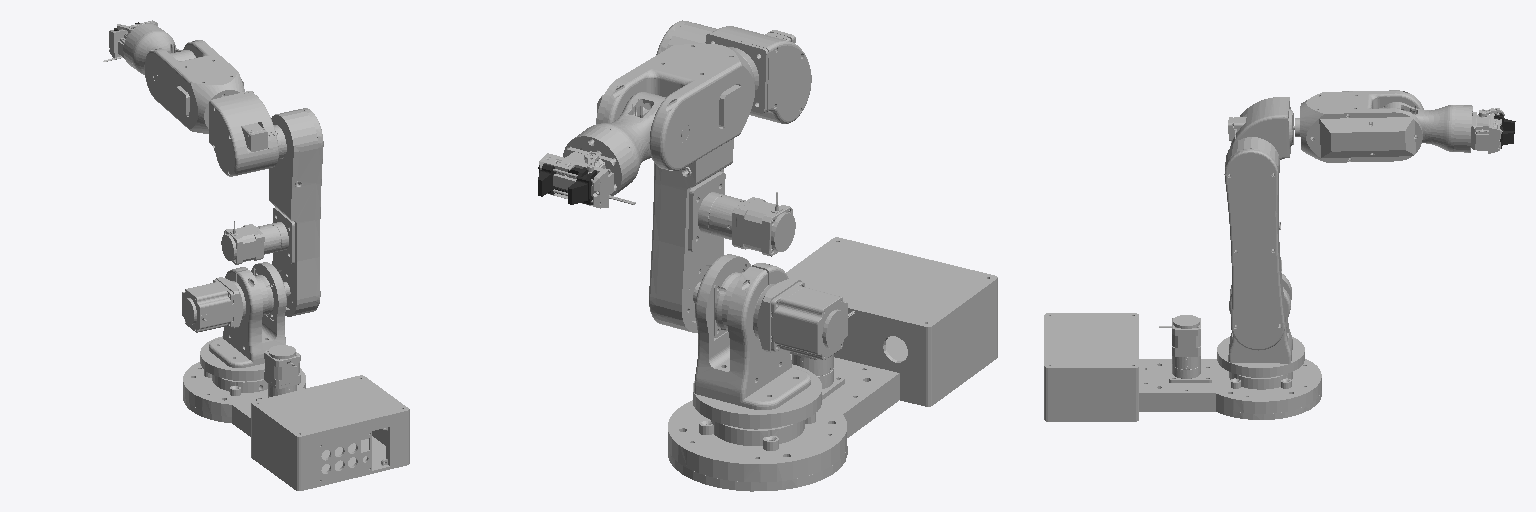
The robot description file, URDF, robot "grap":
<?xml version="1.0" ?>
<!-- =================================================================================== -->
<!-- |    This document was autogenerated by xacro from ./src/grap_description/urdf/grap.urdf.xacro | -->
<!-- |    EDITING THIS FILE BY HAND IS NOT RECOMMENDED                                 | -->
<!-- =================================================================================== -->
<robot name="grap">
  <gazebo>
    <plugin filename="libgazebo_ros2_control.so" name="gazebo_ros2_control">
      <robot_param>robot_description</robot_param>
      <robot_param_node>robot_state_publisher</robot_param_node>
      <parameters>[local-path]/grap_ws/install/grap_controller/share/grap_controller/config/grap_controllers.yaml</parameters>
    </plugin>
  </gazebo>
  <ros2_control name="RobotSystem" type="system">
    <hardware>
      <plugin>gazebo_ros2_control/GazeboSystem</plugin>
    </hardware>
    <joint name="gripper_to_jaw2">
      <param name="mimic">gripper_to_jaw1</param>
      <param name="multiplier">-1</param>
      <command_interface name="position">
        <param name="min">0.0</param>
        <param name="max">0.008</param>
      </command_interface>
    </joint>
    <!-- <hardware>
            <plugin>gazebo_ros2_control/GazeboSystem</plugin>
        </hardware> -->
    <joint name="joint_1">
      <command_interface name="position">
        <param name="min">-3.14159265359</param>
        <param name="max">3.14159265359</param>
      </command_interface>
      <state_interface name="position"/>
    </joint>
    <joint name="joint_2">
      <command_interface name="position">
        <param name="min">-3.14159265359</param>
        <param name="max">3.14159265359</param>
      </command_interface>
      <state_interface name="position"/>
    </joint>
    <joint name="joint_3">
      <command_interface name="position">
        <param name="min">-3.14159265359</param>
        <param name="max">3.14159265359</param>
      </command_interface>
      <state_interface name="position"/>
    </joint>
    <joint name="joint_4">
      <command_interface name="position">
        <param name="min">-3.14159265359</param>
        <param name="max">3.14159265359</param>
      </command_interface>
      <state_interface name="position"/>
    </joint>
    <joint name="joint_5">
      <command_interface name="position">
        <param name="min">-3.14159265359</param>
        <param name="max">3.14159265359</param>
      </command_interface>
      <state_interface name="position"/>
    </joint>
    <joint name="joint_6">
      <command_interface name="position">
        <param name="min">-3.14159265359</param>
        <param name="max">3.14159265359</param>
      </command_interface>
      <state_interface name="position"/>
    </joint>
    <joint name="gripper_to_jaw1">
      <command_interface name="position">
        <param name="min">0.0</param>
        <param name="max">0.008</param>
      </command_interface>
      <state_interface name="position"/>
    </joint>
    <!-- <joint name="gripper_to_jaw2">
            <param name="mimic">gripper_to_jaw1</param>
            <param name="multiplier">-1</param>
            <command_interface name="position">
            <param name="min">0.0</param>
            <param name="max">0.016</param>
            </command_interface>
        </joint> -->
  </ros2_control>
  <joint name="camera_joint" type="revolute">
    <origin rpy="0 0 0" xyz="0 0 0"/>
    <parent link="gripper"/>
    <child link="camera_link"/>
    <axis xyz="-1 0 0"/>
    <limit effort="30.0" lower="-3.14159265359" upper="3.14159265359" velocity="10.0"/>
  </joint>
  <link name="camera_link"/>
  <!-- camera depth joints and links -->
  <joint name="camera_depth_joint" type="revolute">
    <origin rpy="0 0 0" xyz="0 0 0"/>
    <parent link="camera_link"/>
    <child link="camera_depth_frame"/>
    <axis xyz="-1 0 0"/>
    <limit effort="30.0" lower="-3.14159265359" upper="3.14159265359" velocity="10.0"/>
  </joint>
  <link name="camera_depth_frame"/>
  <joint name="camera_depth_optical_joint" type="revolute">
    <origin rpy="-1.570795 0 -1.570795" xyz="0 0 0"/>
    <parent link="camera_depth_frame"/>
    <child link="camera_depth_optical_frame"/>
    <axis xyz="-1 0 0"/>
    <limit effort="30.0" lower="-3.14159265359" upper="3.14159265359" velocity="10.0"/>
  </joint>
  <link name="camera_depth_optical_frame"/>
  <!-- camera color joints and links -->
  <joint name="camera_color_joint" type="fixed">
    <origin rpy="0 0 0" xyz="0 0.015 0"/>
    <parent link="camera_link"/>
    <child link="camera_color_frame"/>
    <axis xyz="-1 0 0"/>
    <limit effort="30.0" lower="-3.14159265359" upper="3.14159265359" velocity="10.0"/>
  </joint>
  <link name="camera_color_frame"/>
  <joint name="camera_color_optical_joint" type="revolute">
    <origin rpy="-1.570795 0 -1.570795" xyz="0 0 0"/>
    <parent link="camera_color_frame"/>
    <child link="camera_color_optical_frame"/>
    <axis xyz="-1 0 0"/>
    <limit effort="30.0" lower="-3.14159265359" upper="3.14159265359" velocity="10.0"/>
  </joint>
  <link name="camera_color_optical_frame"/>
  <link name="world"/>
  <link name="base_link">
    <inertial>
      <origin rpy="0 0 0" xyz="-0.00421198548058446 -0.132961324333918 0.029522138429454"/>
      <mass value="2.06490187169485"/>
      <inertia ixx="0.00763309208876671" ixy="3.15518256302426E-11" ixz="4.56162161811514E-07" iyy="0.00545339003883257" iyz="1.51827544511072E-05" izz="0.0120480791979355"/>
    </inertial>
    <visual>
      <origin rpy="0 0 0" xyz="0 0 0"/>
      <geometry>
        <mesh filename="package://grap_description/meshes/base_link.STL"/>
      </geometry>
      <material name="">
        <color rgba="0.752941176470588 0.752941176470588 0.752941176470588 1"/>
      </material>
    </visual>
    <collision>
      <origin rpy="0 0 0" xyz="0 0 0"/>
      <geometry>
        <mesh filename="package://grap_description/meshes/base_link.STL"/>
      </geometry>
    </collision>
  </link>
  <joint name="virtual_joint" type="fixed">
    <parent link="world"/>
    <child link="base_link"/>
    <origin rpy="0 0 0" xyz="0 0 0"/>
  </joint>
  <link name="link_1">
    <inertial>
      <origin rpy="0 0 0" xyz="0.000808969800299604 -0.000138570798438029 0.0278710310309241"/>
      <mass value="1.345459012011"/>
      <inertia ixx="0.00194001972580055" ixy="-7.09464672629289E-08" ixz="-0.000115014321831031" iyy="0.00149431595473908" iyz="-4.44939328188659E-07" izz="0.00120049182104889"/>
    </inertial>
    <visual>
      <origin rpy="0 0 0" xyz="0 0 0"/>
      <geometry>
        <mesh filename="package://grap_description/meshes/link_1.STL"/>
      </geometry>
      <material name="">
        <color rgba="0.752941176470588 0.752941176470588 0.752941176470588 1"/>
      </material>
    </visual>
    <collision>
      <origin rpy="0 0 0" xyz="0 0 0"/>
      <geometry>
        <mesh filename="package://grap_description/meshes/link_1.STL"/>
      </geometry>
    </collision>
  </link>
  <joint name="joint_1" type="revolute">
    <origin rpy="0 0 -0.04022" xyz="0 0 0.090781"/>
    <parent link="base_link"/>
    <child link="link_1"/>
    <axis xyz="0 0 -1"/>
    <limit effort="30.0" lower="-3.14159" upper="3.14159" velocity="10.0"/>
  </joint>
  <link name="link_2">
    <inertial>
      <origin rpy="0 0 0" xyz="0.0725656011027376 -0.00493585449999363 0.128767953566197"/>
      <mass value="1.08660833495192"/>
      <inertia ixx="0.00877681843180501" ixy="-5.66224815842472E-06" ixz="0.000146344087580709" iyy="0.00836958858568757" iyz="0.00029566340732952" izz="0.000729007965972375"/>
    </inertial>
    <visual>
      <origin rpy="0 0 0" xyz="0 0 0"/>
      <geometry>
        <mesh filename="package://grap_description/meshes/link_2.STL"/>
      </geometry>
      <material name="">
        <color rgba="0.752941176470588 0.752941176470588 0.752941176470588 1"/>
      </material>
    </visual>
    <collision>
      <origin rpy="0 0 0" xyz="0 0 0"/>
      <geometry>
        <mesh filename="package://grap_description/meshes/link_2.STL"/>
      </geometry>
    </collision>
  </link>
  <joint name="joint_2" type="revolute">
    <origin rpy="0 0 0" xyz="0 -0.0005 0.068719"/>
    <parent link="link_1"/>
    <child link="link_2"/>
    <axis xyz="-1 0 0"/>
    <limit effort="30.0" lower="-3.14159" upper="3.14159" velocity="10.0"/>
  </joint>
  <link name="link_3">
    <inertial>
      <origin rpy="0 0 0" xyz="0.00556942315189014 0.0159629818583244 0.0167696823119708"/>
      <mass value="0.398679361770722"/>
      <inertia ixx="0.000416745288177109" ixy="-3.47434917961218E-06" ixz="3.23990501593985E-06" iyy="0.000375158213106478" iyz="-4.50186074962209E-05" izz="0.000325767200255177"/>
    </inertial>
    <visual>
      <origin rpy="0 0 0" xyz="0 0 0"/>
      <geometry>
        <mesh filename="package://grap_description/meshes/link_3.STL"/>
      </geometry>
      <material name="">
        <color rgba="0.752941176470588 0.752941176470588 0.752941176470588 1"/>
      </material>
    </visual>
    <collision>
      <origin rpy="0 0 0" xyz="0 0 0"/>
      <geometry>
        <mesh filename="package://grap_description/meshes/link_3.STL"/>
      </geometry>
    </collision>
  </link>
  <joint name="joint_3" type="revolute">
    <origin rpy="0.041978 0 0" xyz="0 -0.0095271 0.24582"/>
    <parent link="link_2"/>
    <child link="link_3"/>
    <axis xyz="1 0 0"/>
    <limit effort="30.0" lower="-3.14159" upper="3.14159" velocity="10.0"/>
  </joint>
  <link name="link_4">
    <inertial>
      <origin rpy="0 0 0" xyz="-0.000450394342593537 0.0976802655619906 2.03746135479799E-05"/>
      <mass value="1.8261804701663"/>
      <inertia ixx="0.00210255182937435" ixy="2.29902955299491E-05" ixz="-7.18041313732403E-07" iyy="0.00203452811208358" iyz="-9.16847068684897E-08" izz="0.00204365103205903"/>
    </inertial>
    <visual>
      <origin rpy="0 0 0" xyz="0 0 0"/>
      <geometry>
        <mesh filename="package://grap_description/meshes/link_4.STL"/>
      </geometry>
      <material name="">
        <color rgba="0.752941176470588 0.752941176470588 0.752941176470588 1"/>
      </material>
    </visual>
    <collision>
      <origin rpy="0 0 0" xyz="0 0 0"/>
      <geometry>
        <mesh filename="package://grap_description/meshes/link_4.STL"/>
      </geometry>
    </collision>
  </link>
  <joint name="joint_4" type="revolute">
    <origin rpy="0 0.00292198840003054 0" xyz="-0.000427000000000295 0.054679674711157 0.02799999999999"/>
    <parent link="link_3"/>
    <child link="link_4"/>
    <axis xyz="0 -1 0"/>
    <limit effort="30.0" lower="-3.14159" upper="3.14159" velocity="10.0"/>
  </joint>
  <link name="link_5">
    <inertial>
      <origin rpy="0 0 0" xyz="-0.000940353193648331 0.0653029129196113 -0.00549326154095703"/>
      <mass value="0.374215035422608"/>
      <inertia ixx="0.000270325796137459" ixy="-6.15170805624937E-08" ixz="5.79348371080446E-07" iyy="0.000236192995819435" iyz="1.1525902201961E-06" izz="0.000265738649483187"/>
    </inertial>
    <visual>
      <origin rpy="0 0 0" xyz="0 0 0"/>
      <geometry>
        <mesh filename="package://grap_description/meshes/link_5.STL"/>
      </geometry>
      <material name="">
        <color rgba="0.752941176470588 0.752941176470588 0.752941176470588 1"/>
      </material>
    </visual>
    <collision>
      <origin rpy="0 0 0" xyz="0 0 0"/>
      <geometry>
        <mesh filename="package://grap_description/meshes/link_5.STL"/>
      </geometry>
    </collision>
  </link>
  <joint name="joint_5" type="revolute">
    <origin rpy="0 0 0" xyz="0 0.157320325288843 0"/>
    <parent link="link_4"/>
    <child link="link_5"/>
    <axis xyz="1 0 0"/>
    <limit effort="30.0" lower="-3.14159" upper="3.14159" velocity="10.0"/>
  </joint>
  <link name="gripper">
    <inertial>
      <origin rpy="0 0 0" xyz="-2.68262754406084E-05 0.034601415676076 -0.00192591497150746"/>
      <mass value="0.086559841068276"/>
      <inertia ixx="1.28836553131188E-05" ixy="-2.16585157564151E-07" ixz="1.9387711366824E-07" iyy="3.83162023632297E-05" iyz="4.43523340333197E-07" izz="3.10662084307227E-05"/>
    </inertial>
    <visual>
      <origin rpy="0 0 0" xyz="0 0 0"/>
      <geometry>
        <mesh filename="package://grap_description/meshes/gripper.STL"/>
      </geometry>
      <material name="">
        <color rgba="0.752941176470588 0.752941176470588 0.752941176470588 1"/>
      </material>
    </visual>
    <collision>
      <origin rpy="0 0 0" xyz="0 0 0"/>
      <geometry>
        <mesh filename="package://grap_description/meshes/gripper.STL"/>
      </geometry>
    </collision>
  </link>
  <joint name="joint_6" type="revolute">
    <origin rpy="-0.083011 -0.014025 0.0011669" xyz="-0.001 0.096952 -0.0080658"/>
    <parent link="link_5"/>
    <child link="gripper"/>
    <axis xyz="0 1 0"/>
    <limit effort="30.0" lower="-3.14159" upper="3.14159" velocity="10.0"/>
  </joint>
  <link name="jaw_1">
    <inertial>
      <origin rpy="0 0 0" xyz="-0.0163227415466946 0.0109639611316651 -0.0103863936568477"/>
      <mass value="0.00654748908881563"/>
      <inertia ixx="8.84676971240293E-07" ixy="1.95149751371114E-08" ixz="-7.19300070994304E-08" iyy="7.00611451021727E-07" iyz="1.59781110542551E-07" izz="6.07697845789848E-07"/>
    </inertial>
    <visual>
      <origin rpy="0 0 0" xyz="0 0 0"/>
      <geometry>
        <mesh filename="package://grap_description/meshes/jaw_1.STL"/>
      </geometry>
      <material name="">
        <color rgba="0.250980392156863 0.250980392156863 0.250980392156863 1"/>
      </material>
    </visual>
    <collision>
      <origin rpy="0 0 0" xyz="0 0 0"/>
      <geometry>
        <mesh filename="package://grap_description/meshes/jaw_1.STL"/>
      </geometry>
    </collision>
  </link>
  <joint name="gripper_to_jaw1" type="prismatic">
    <origin rpy="0 0 0" xyz="0 0.0492703212936029 0.0127749999999998"/>
    <parent link="gripper"/>
    <child link="jaw_1"/>
    <axis xyz="1 0 0"/>
    <limit effort="30.0" lower="0" upper="0.008" velocity="10.0"/>
  </joint>
  <link name="jaw_2">
    <inertial>
      <origin rpy="0 0 0" xyz="0.0212544075235043 0.0110527863198366 0.0105172602203642"/>
      <mass value="0.00651398599816586"/>
      <inertia ixx="8.60320637498025E-07" ixy="-2.08874044579361E-08" ixz="-7.39519895968084E-08" iyy="6.78016333592718E-07" iyz="-1.4826583785601E-07" izz="5.94973793624687E-07"/>
    </inertial>
    <visual>
      <origin rpy="0 0 0" xyz="0 0 0"/>
      <geometry>
        <mesh filename="package://grap_description/meshes/jaw_2.STL"/>
      </geometry>
      <material name="">
        <color rgba="0.250980392156863 0.250980392156863 0.250980392156863 1"/>
      </material>
    </visual>
    <collision>
      <origin rpy="0 0 0" xyz="0 0 0"/>
      <geometry>
        <mesh filename="package://grap_description/meshes/jaw_2.STL"/>
      </geometry>
    </collision>
  </link>
  <joint name="gripper_to_jaw2" type="prismatic">
    <origin rpy="0 0 0" xyz="0.0027062 0.04927 -0.012375"/>
    <parent link="gripper"/>
    <child link="jaw_2"/>
    <axis xyz="1 0 0"/>
    <limit effort="30.0" lower="-0.008" upper="0" velocity="10.0"/>
    <mimic joint="gripper_to_jaw1" multiplier="-1" offset="0"/>
  </joint>
  <transmission name="transmission_1">
    <plugin>transmission_interface/SimpleTransmission</plugin>
    <actuator name="motor_1" role="actuator1"/>
    <joint name="joint_1" role="joint1">
      <mechanical_reduction>1.0</mechanical_reduction>
      <!-- <hardwareInterface>hardware_interface/PositionJointInterface</hardwareInterface> -->
    </joint>
  </transmission>
  <transmission name="transmission_2">
    <plugin>transmission_interface/SimpleTransmission</plugin>
    <actuator name="motor_2" role="actuator1"/>
    <joint name="joint_2" role="joint1">
      <mechanical_reduction>1.0</mechanical_reduction>
      <!-- <hardwareInterface>hardware_interface/PositionJointInterface</hardwareInterface> -->
    </joint>
  </transmission>
  <transmission name="transmission_3">
    <plugin>transmission_interface/SimpleTransmission</plugin>
    <actuator name="motor_3" role="actuator1"/>
    <joint name="joint_3" role="joint1">
      <mechanical_reduction>1.0</mechanical_reduction>
      <!-- <hardwareInterface>hardware_interface/PositionJointInterface</hardwareInterface> -->
    </joint>
  </transmission>
  <transmission name="transmission_4">
    <plugin>transmission_interface/SimpleTransmission</plugin>
    <actuator name="motor_4" role="actuator1"/>
    <joint name="joint_4" role="joint1">
      <mechanical_reduction>1.0</mechanical_reduction>
      <!-- <hardwareInterface>hardware_interface/PositionJointInterface</hardwareInterface> -->
    </joint>
  </transmission>
  <transmission name="transmission_5">
    <plugin>transmission_interface/SimpleTransmission</plugin>
    <actuator name="motor_5" role="actuator1"/>
    <joint name="joint_5" role="joint1">
      <mechanical_reduction>1.0</mechanical_reduction>
      <!-- <hardwareInterface>hardware_interface/PositionJointInterface</hardwareInterface> -->
    </joint>
  </transmission>
  <transmission name="transmission_6">
    <plugin>transmission_interface/SimpleTransmission</plugin>
    <actuator name="motor_6" role="actuator1"/>
    <joint name="joint_6" role="joint1">
      <mechanical_reduction>1.0</mechanical_reduction>
      <!-- <hardwareInterface>hardware_interface/PositionJointInterface</hardwareInterface> -->
    </joint>
  </transmission>
  <transmission name="transmission_jaw">
    <plugin>transmission_interface/SimpleTransmission</plugin>
    <actuator name="motor_jaw" role="actuator1"/>
    <joint name="gripper_to_jaw1" role="joint1">
      <mechanical_reduction>1.0</mechanical_reduction>
      <!-- <hardwareInterface>hardware_interface/PositionJointInterface</hardwareInterface> -->
    </joint>
  </transmission>
</robot>

--- What the picture shows (computed from the rendered views, not written in the file) ---
The picture shows the robot from 3 angles, left to right: view 1: azimuth 30°, elevation 25°; view 2: azimuth 150°, elevation 25°; view 3: azimuth 270°, elevation 25°; orthographic projection.
Robot: grap — 15 links, 14 joints (10 revolute, 2 prismatic, 2 fixed); root link world; default pose: every joint at zero.
Visible links, largest first — view 1: base_link, link_2, link_1, link_4, link_3, link_5, gripper; view 2: base_link, link_1, link_2, link_4, link_3, link_5, gripper, jaw_1; view 3: base_link, link_2, link_4, link_1, link_3, link_5, gripper.
Link boxes in pixels (left/top/right/bottom): base_link: left=183, top=345, right=409, bottom=490; link_2: left=221, top=108, right=323, bottom=316; link_1: left=182, top=262, right=286, bottom=380; link_4: left=144, top=40, right=244, bottom=133; link_3: left=209, top=91, right=286, bottom=176; link_5: left=123, top=24, right=195, bottom=74; gripper: left=103, top=20, right=157, bottom=61; base_link: left=668, top=237, right=997, bottom=491; link_1: left=693, top=254, right=854, bottom=427; link_2: left=649, top=20, right=795, bottom=332; link_4: left=596, top=43, right=755, bottom=170; link_3: left=705, top=26, right=811, bottom=123; link_5: left=563, top=92, right=665, bottom=198; gripper: left=539, top=147, right=635, bottom=208; jaw_1: left=568, top=167, right=596, bottom=204; base_link: left=1044, top=313, right=1321, bottom=421; link_2: left=1224, top=137, right=1285, bottom=350; link_4: left=1295, top=90, right=1423, bottom=162; link_1: left=1217, top=260, right=1304, bottom=376; link_3: left=1228, top=97, right=1294, bottom=159; link_5: left=1383, top=102, right=1472, bottom=152; gripper: left=1471, top=108, right=1504, bottom=153.
Bounding box of the posed robot: 0.2014 × 0.696 × 0.4823 m (x, y, z).
Meshes: 9 distinct files referenced, 9 mesh visuals loaded (9 binary STL).